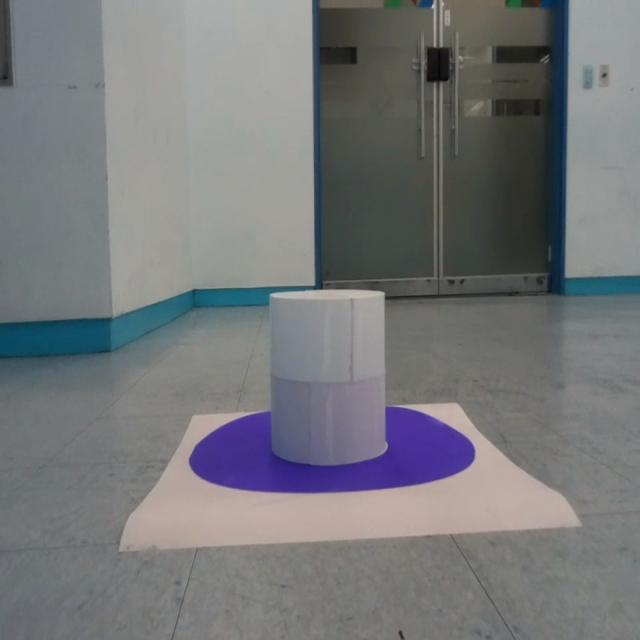cylinder: (269, 288, 387, 466)
